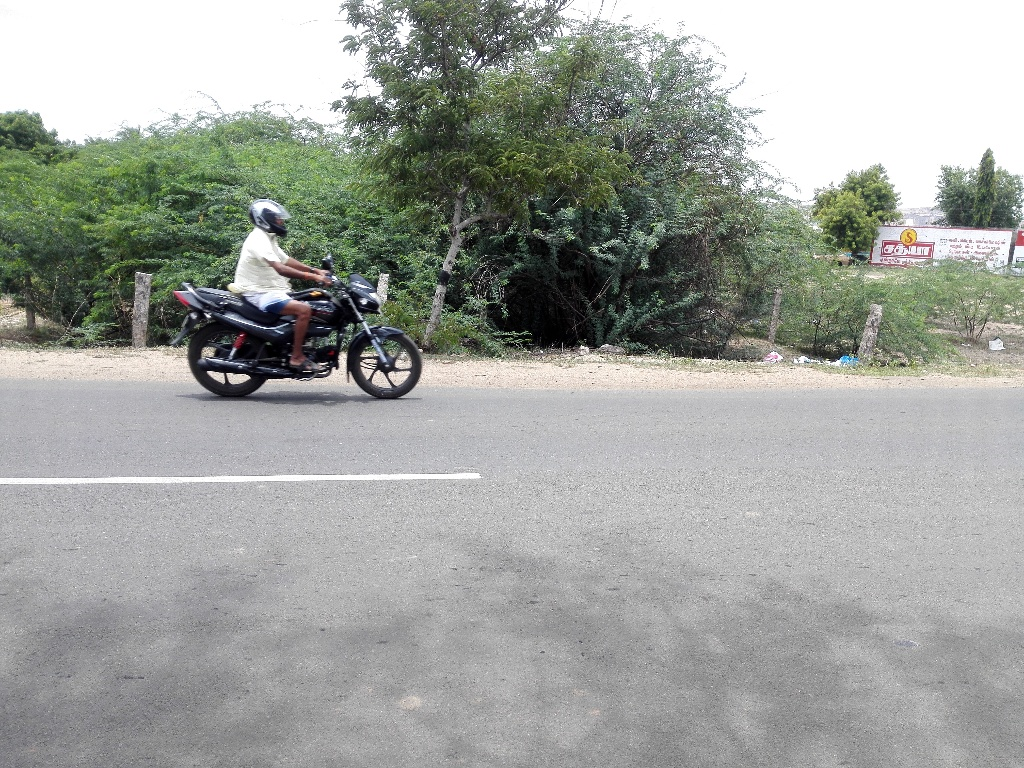biker: (151, 170, 450, 426)
helmet: (238, 190, 302, 248)
